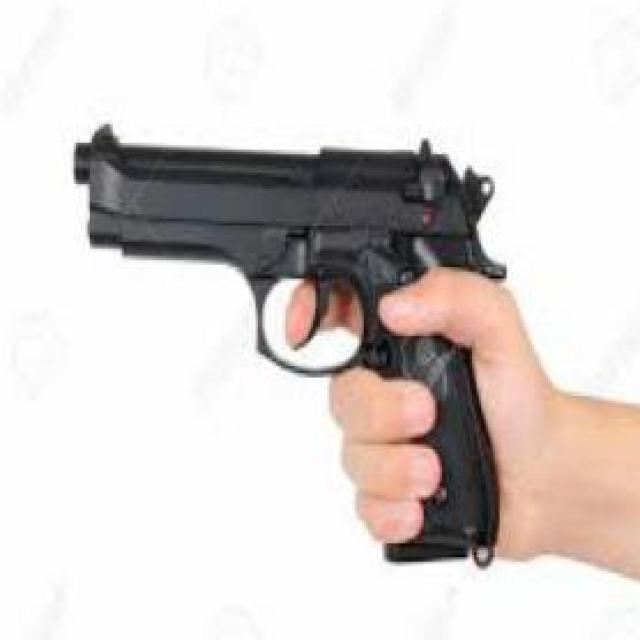pistol: (69, 110, 505, 584)
